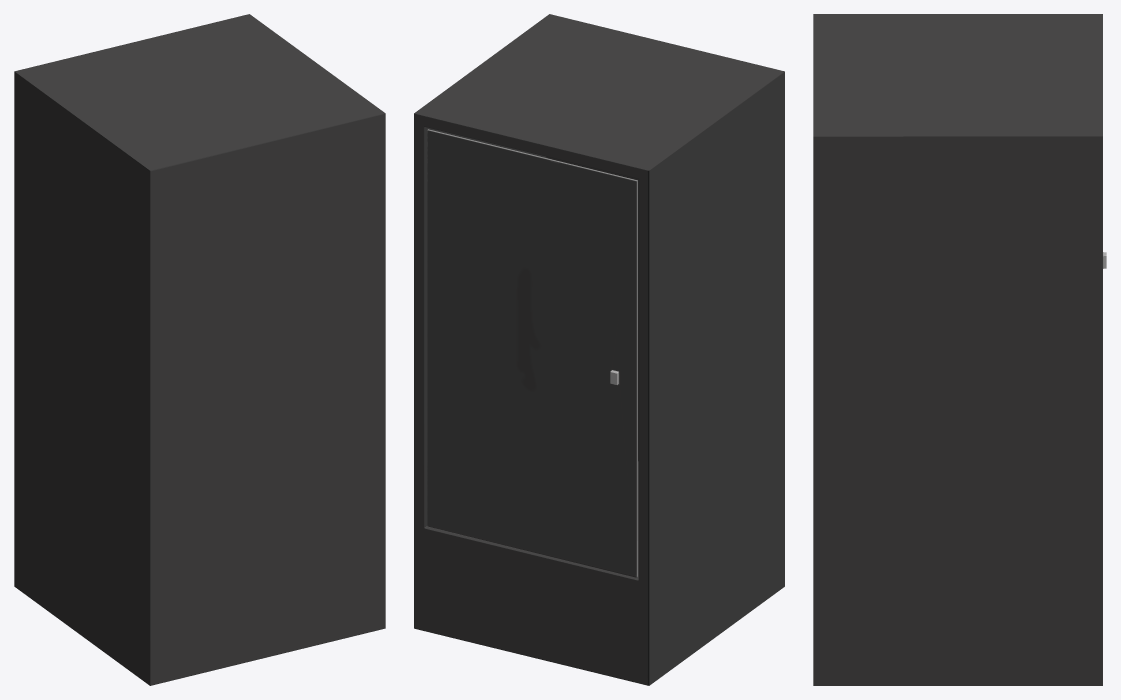
The model's file is schrankZu.glb.
3 views of the same model, side by side, from view 1: azimuth 30°, elevation 25°; view 2: azimuth 150°, elevation 25°; view 3: azimuth 270°, elevation 25° (orthographic). The views are drawn at different scales.
Visible parts, largest first — view 1: 300604_23_06_15_12_53_47_1_300604_23_06_15_12_53_47_1.002; view 2: 300604_23_06_15_12_53_47_1_300604_23_06_15_12_53_47_1.002; view 3: 300604_23_06_15_12_53_47_1_300604_23_06_15_12_53_47_1.002.
Part boxes in pixels (bbox=[...]): 300604_23_06_15_12_53_47_1_300604_23_06_15_12_53_47_1.002: bbox=[14, 14, 385, 685]; 300604_23_06_15_12_53_47_1_300604_23_06_15_12_53_47_1.002: bbox=[414, 14, 784, 685]; 300604_23_06_15_12_53_47_1_300604_23_06_15_12_53_47_1.002: bbox=[813, 14, 1106, 685].
Bounding box in the file's own units: 1.39 × 2.91 × 1.41.
1 material, 1 textured.
